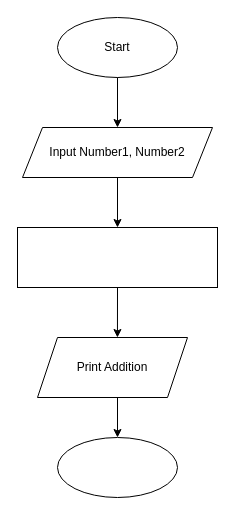
The diagram is 235 pixels wide and 515 high, and some of its shapes have lost their labels. Here are the shapes that lost their labels. From the top down, the centre of each, then its label:
At point 117,257: "Addition = Number1 + Number2".
At point 117,467: "End".
